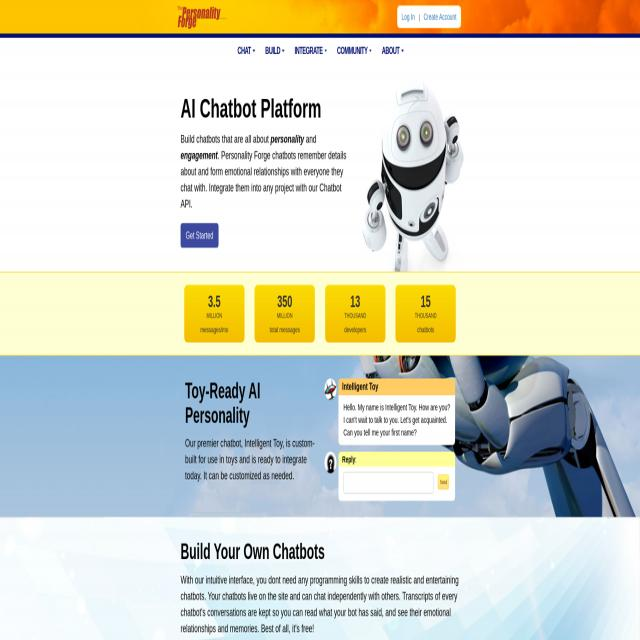button: (178, 6, 228, 28), (180, 223, 218, 248), (332, 40, 376, 60), (290, 40, 332, 60), (378, 40, 408, 60), (261, 40, 289, 60), (233, 40, 259, 60), (324, 378, 336, 400), (324, 452, 336, 473)
field: (343, 472, 433, 494), (438, 474, 449, 489)
